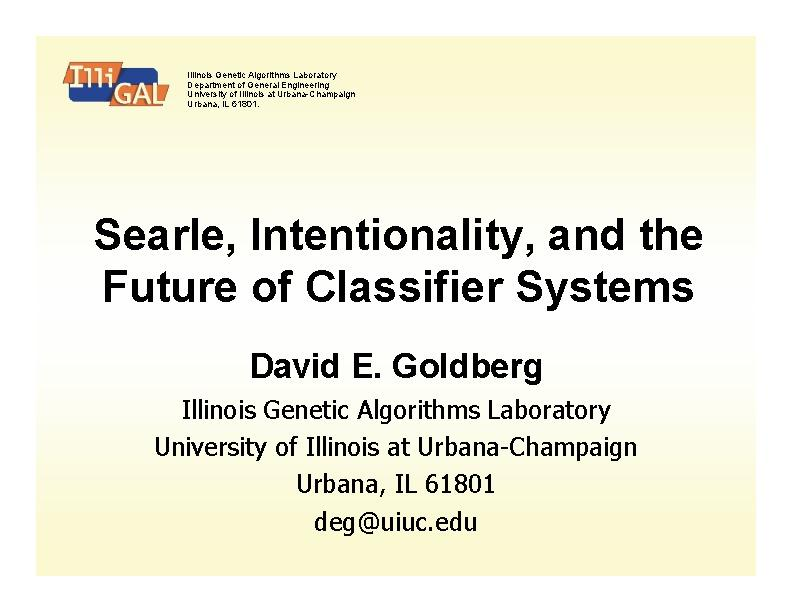subtitle: (131, 345, 655, 544)
title: (74, 209, 718, 318)
